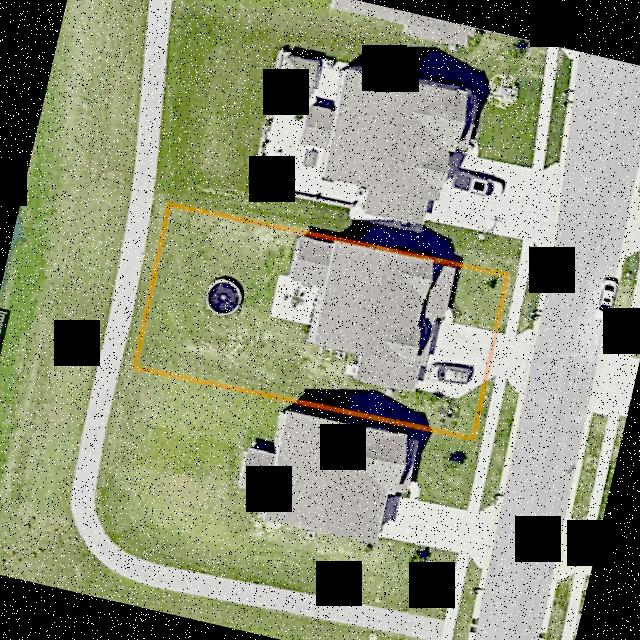Driveway: (415, 309, 491, 397)
Extra Driveway: (487, 328, 532, 393)
Extra Lawn: (119, 197, 166, 368), (491, 379, 517, 446), (514, 278, 541, 335), (474, 376, 494, 442), (496, 273, 516, 334)
Extra Sidewalk: (480, 376, 504, 444), (504, 275, 526, 336)
House: (288, 236, 454, 392)
Other: (269, 274, 315, 323), (204, 278, 239, 316), (343, 362, 357, 377), (334, 350, 344, 359)
